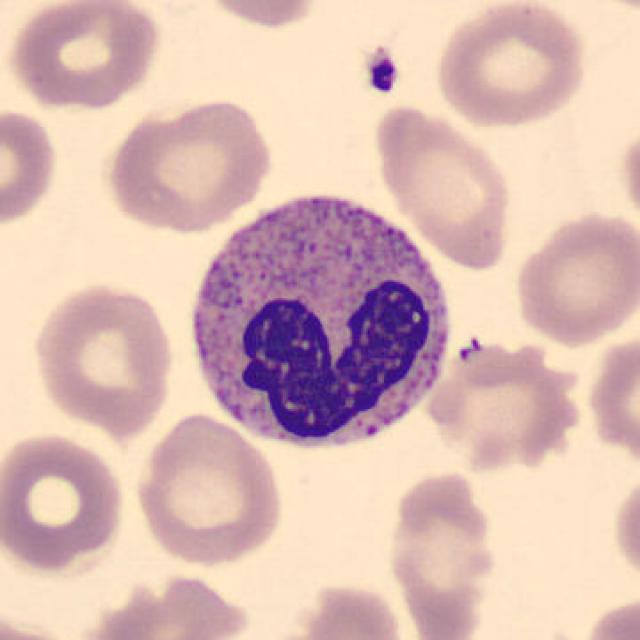Neutrophil: (178, 174, 462, 462)
Platelets: (359, 46, 404, 99)
RBC: (370, 100, 516, 272), (101, 93, 278, 234), (130, 411, 288, 568), (27, 277, 180, 437), (422, 332, 588, 472), (430, 0, 592, 130), (381, 466, 502, 638), (0, 427, 130, 578), (508, 208, 638, 349), (3, 0, 165, 111), (70, 570, 254, 638), (279, 578, 413, 640), (0, 104, 62, 233), (593, 333, 640, 468), (196, 0, 326, 32), (608, 465, 638, 589), (576, 590, 640, 640), (0, 606, 92, 640), (617, 116, 640, 238), (576, 0, 638, 18)
